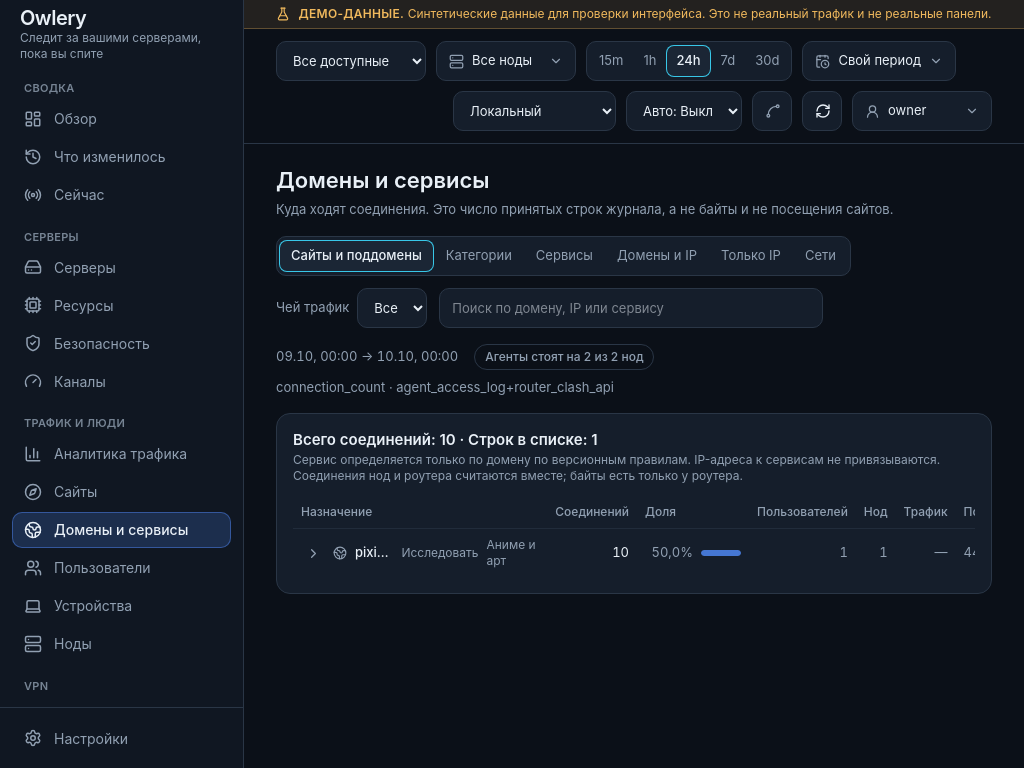
domains: category, service, site, host tree › opens a category into its services, a service into its sites, passing the filters down
This screenshot has width=1024, height=768.
Click the button "Категории" at [479, 256], box [434,240,524,272]
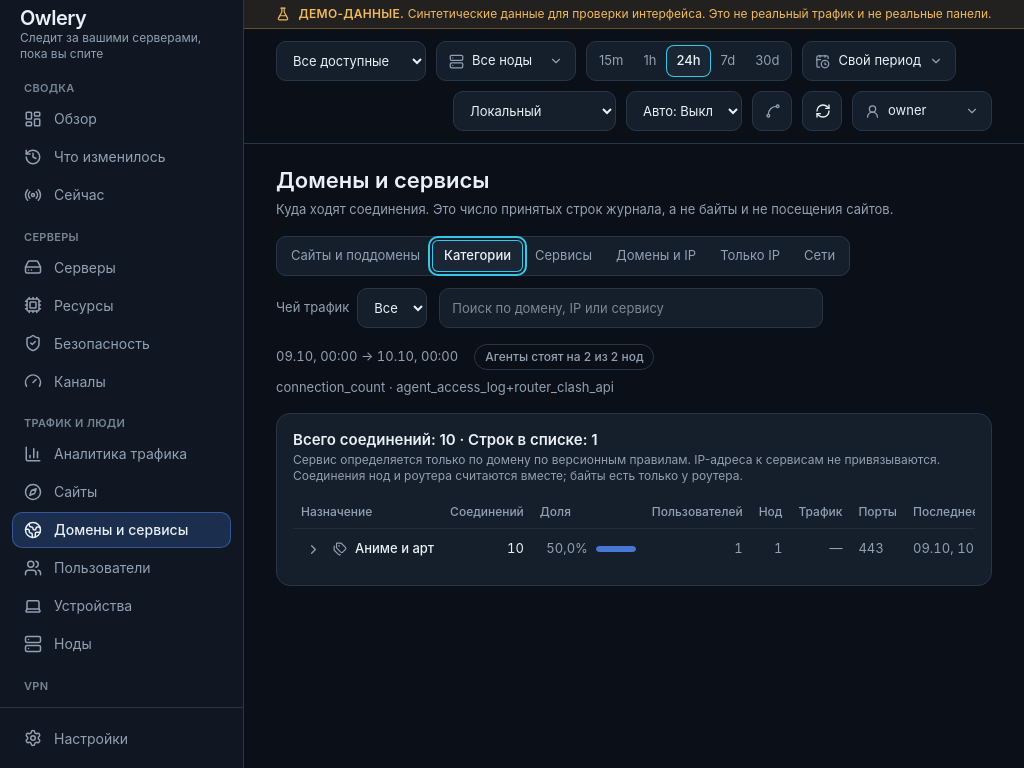
Click the button named "Показать поддомены: Аниме и арт" at [313, 549], box [301,537,325,561]
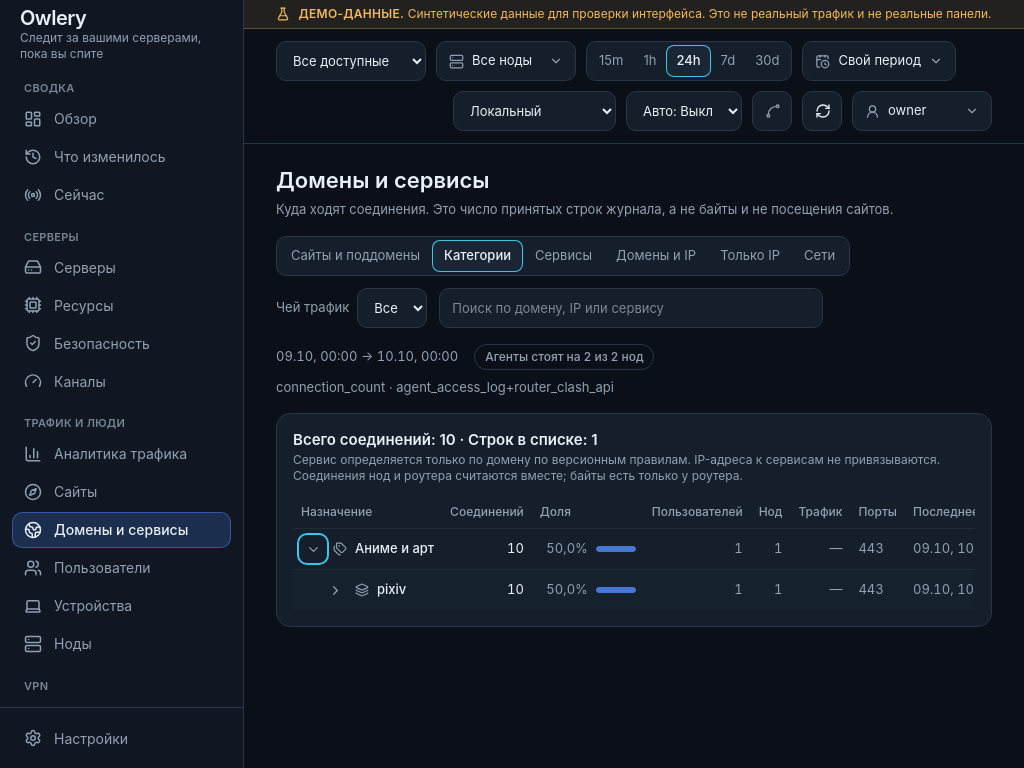
Click the button named "Показать поддомены: pixiv" at [335, 590], box [323,578,347,602]
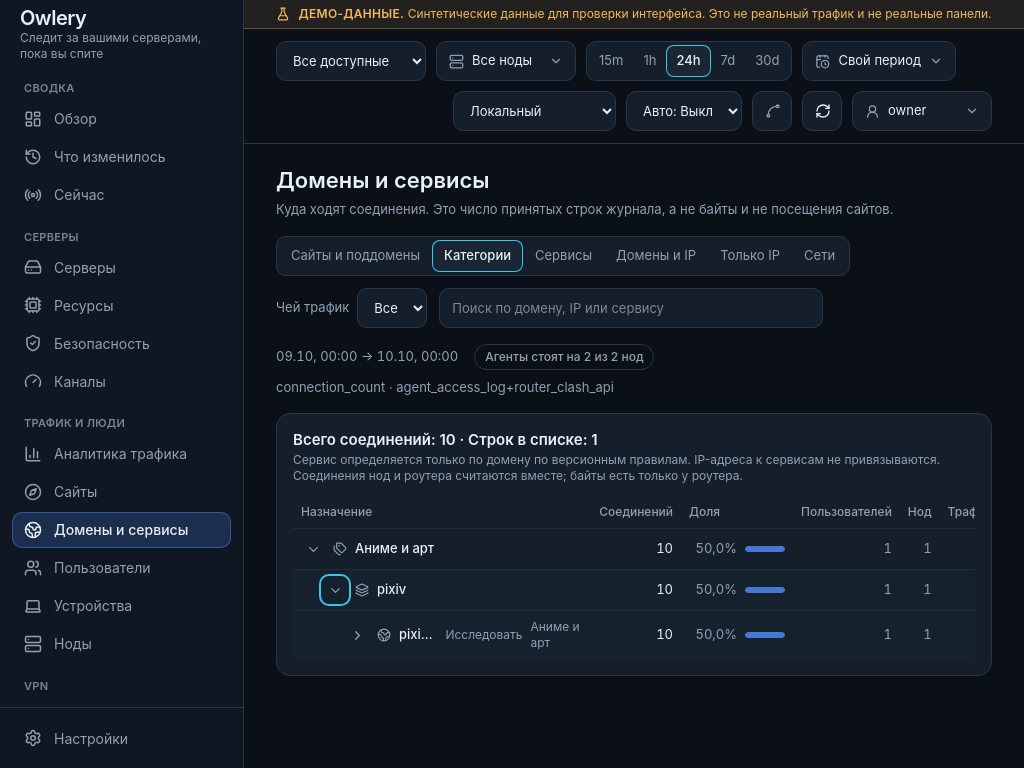
Expected: the 1st text "Аниме и арт" is shown, [355,539,434,559]
Expected: the button named "Показать поддомены: pixiv.net" is shown, [345,623,369,647]
